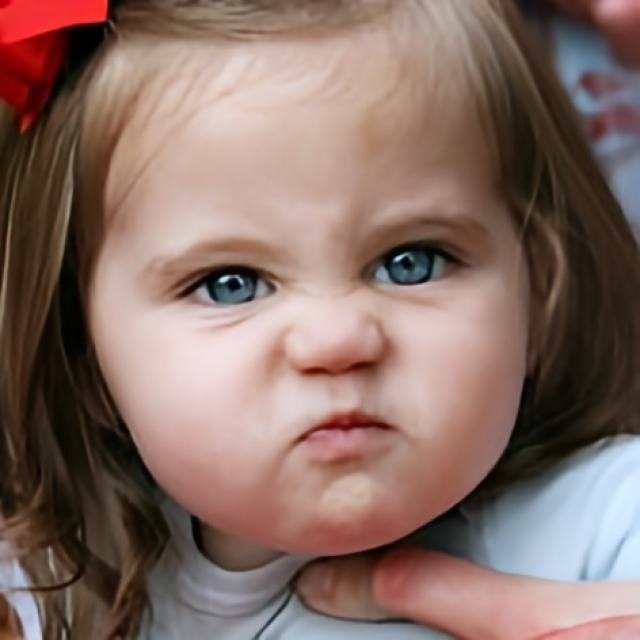anger: (104, 29, 529, 546)
